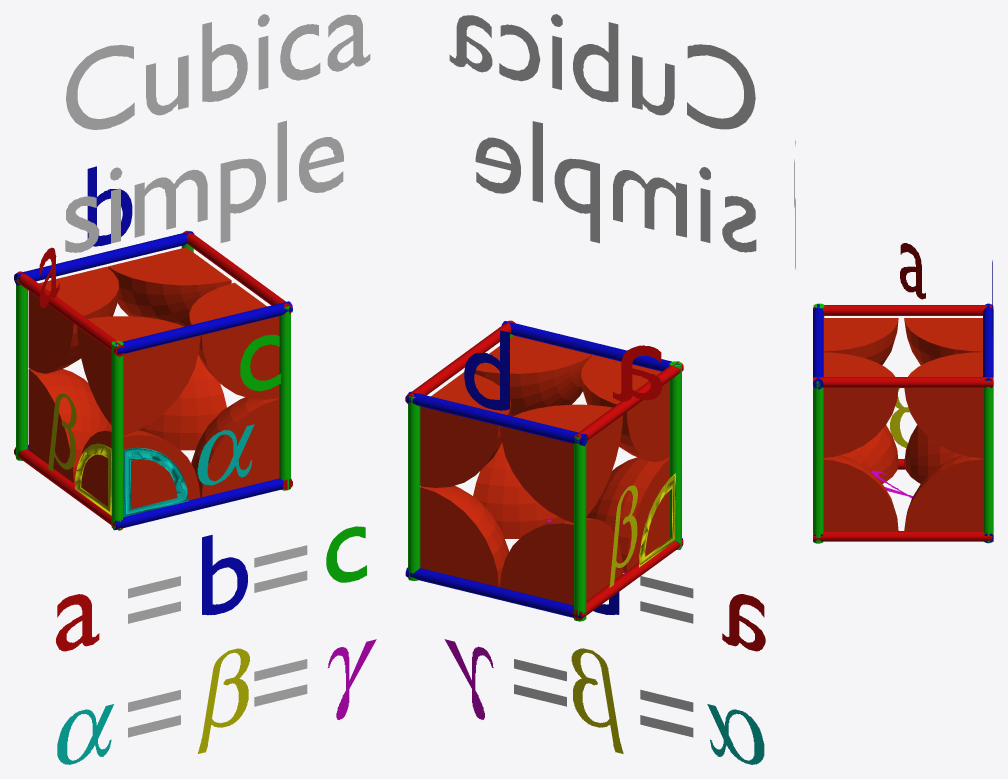
File: cubica simple.obj
The picture shows the model from 3 angles, left to right: view 1: azimuth 30°, elevation 25°; view 2: azimuth 150°, elevation 25°; view 3: azimuth 270°, elevation 25°; orthographic projection. The views are drawn at different scales.
Visible parts, largest first — view 1: Text.129_Text.034, Sphere.009_Sphere.023, Sphere.011_Sphere.025, Sphere.015_Sphere.029, Sphere.010_Sphere.024, Sphere.013_Sphere.027, Sphere.012_Sphere.026, Sphere.008_Sphere.014, Sphere.014_Sphere.028, Cylinder.023_Cylinder.033, Cylinder.014_Cylinder.024, Cylinder.020_Cylinder.030 (+23 smaller); view 2: Text.129_Text.034, Sphere.013_Sphere.027, Sphere.014_Sphere.028, Sphere.012_Sphere.026, Sphere.015_Sphere.029, Sphere.011_Sphere.025, Sphere.008_Sphere.014, Sphere.009_Sphere.023, Sphere.010_Sphere.024, Cylinder.021_Cylinder.031, Cylinder.020_Cylinder.030, Cylinder.018_Cylinder.028 (+17 smaller); view 3: Sphere.015_Sphere.029, Sphere.011_Sphere.025, Sphere.014_Sphere.028, Sphere.010_Sphere.024, Sphere.013_Sphere.027, Sphere.009_Sphere.023, Cylinder.017_Cylinder.027, Cylinder.016_Cylinder.026, Cylinder.024_Cylinder.034, Cylinder.015_Cylinder.025, Cylinder.018_Cylinder.028, Sphere.012_Sphere.026 (+5 smaller).
Part boxes in pixels (left/top/right/bottom): Text.129_Text.034: left=65, top=14, right=370, bottom=252; Sphere.009_Sphere.023: left=77, top=316, right=200, bottom=435; Sphere.011_Sphere.025: left=189, top=282, right=279, bottom=399; Sphere.015_Sphere.029: left=108, top=247, right=231, bottom=326; Sphere.010_Sphere.024: left=191, top=397, right=279, bottom=497; Sphere.013_Sphere.027: left=28, top=266, right=118, bottom=373; Sphere.012_Sphere.026: left=28, top=368, right=111, bottom=483; Sphere.008_Sphere.014: left=80, top=430, right=200, bottom=508; Sphere.014_Sphere.028: left=139, top=354, right=226, bottom=450; Cylinder.023_Cylinder.033: left=111, top=340, right=123, bottom=529; Cylinder.014_Cylinder.024: left=114, top=301, right=292, bottom=355; Cylinder.020_Cylinder.030: left=14, top=231, right=193, bottom=285; Text.129_Text.034: left=449, top=14, right=756, bottom=252; Sphere.013_Sphere.027: left=500, top=404, right=622, bottom=523; Sphere.014_Sphere.028: left=420, top=485, right=508, bottom=587; Sphere.012_Sphere.026: left=499, top=517, right=623, bottom=605; Sphere.015_Sphere.029: left=420, top=372, right=510, bottom=487; Sphere.011_Sphere.025: left=474, top=335, right=592, bottom=416; Sphere.008_Sphere.014: left=586, top=457, right=669, bottom=572; Sphere.009_Sphere.023: left=581, top=355, right=669, bottom=461; Sphere.010_Sphere.024: left=473, top=443, right=561, bottom=538; Cylinder.021_Cylinder.031: left=574, top=436, right=586, bottom=621; Cylinder.020_Cylinder.030: left=406, top=391, right=587, bottom=446; Cylinder.018_Cylinder.028: left=408, top=396, right=420, bottom=580; Sphere.015_Sphere.029: left=904, top=352, right=982, bottom=458; Sphere.011_Sphere.025: left=823, top=352, right=898, bottom=457; Sphere.014_Sphere.028: left=904, top=455, right=982, bottom=530; Sphere.010_Sphere.024: left=823, top=455, right=898, bottom=530; Sphere.013_Sphere.027: left=904, top=318, right=982, bottom=365; Sphere.009_Sphere.023: left=823, top=318, right=898, bottom=365; Cylinder.017_Cylinder.027: left=813, top=377, right=992, bottom=387; Cylinder.016_Cylinder.026: left=813, top=531, right=992, bottom=541; Cylinder.024_Cylinder.034: left=813, top=305, right=992, bottom=315; Cylinder.015_Cylinder.025: left=813, top=378, right=823, bottom=543; Cylinder.018_Cylinder.028: left=983, top=377, right=993, bottom=543; Sphere.012_Sphere.026: left=904, top=425, right=962, bottom=483.
Bounding box in the file's own units: 0.98 × 2.13 × 0.596.
